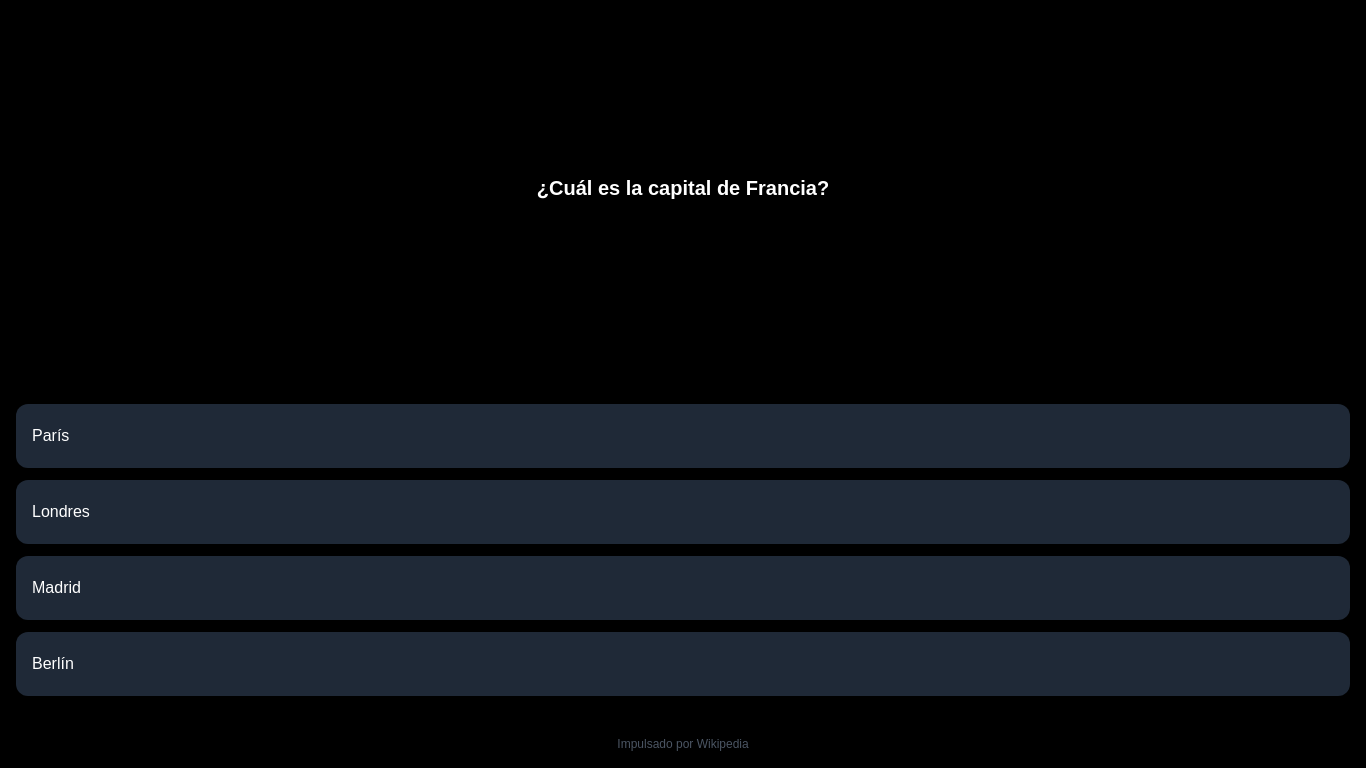
Scenario: GameScreen Component › should show feedback when incorrect option is clicked
Click the button "Londres" at (61, 512), box [16,480,1350,544]
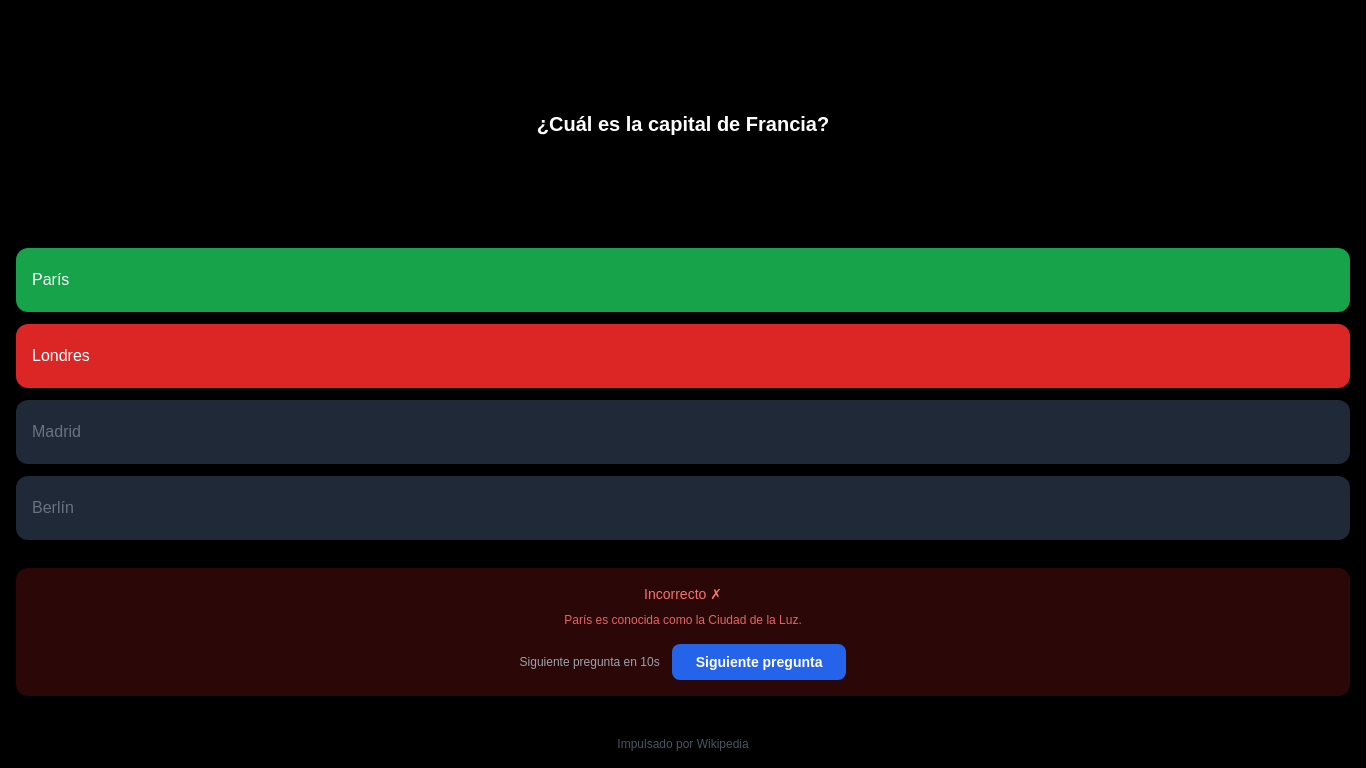
Result: the text "Incorrecto ✗" is shown at [644,586,722,602]
Result: the text "París es conocida como la Ciudad de la Luz." is shown at [564,613,802,627]
Result: the button "Siguiente pregunta" is shown at [672,644,846,680]
